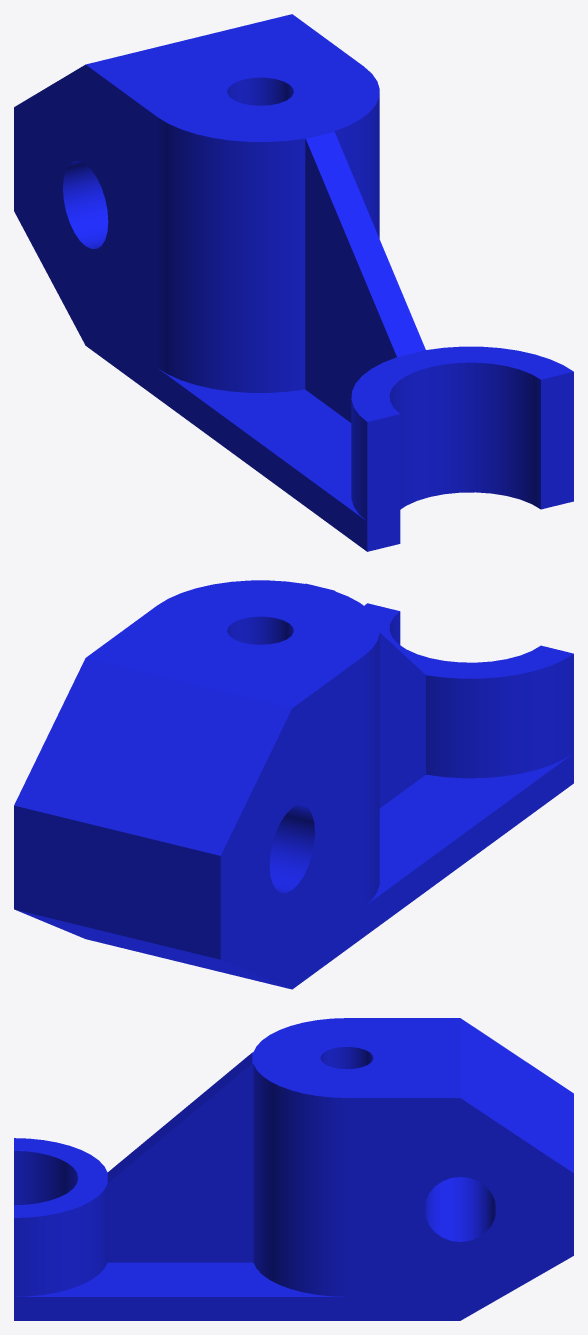
File: asset.glb
3 views of the same model, one above another, from view 1: azimuth 30°, elevation 25°; view 2: azimuth 150°, elevation 25°; view 3: azimuth 270°, elevation 25° (orthographic). The views are drawn at different scales.
Parts seen in each view (by area): view 1: Solid1; view 2: Solid1; view 3: Solid1.
Part boxes in pixels (left/top/right/bottom): Solid1: left=14, top=14, right=573, bottom=551; Solid1: left=14, top=580, right=573, bottom=989; Solid1: left=14, top=1018, right=573, bottom=1320.
Bounding box in the file's own units: 0.05 × 0.065 × 0.148.
